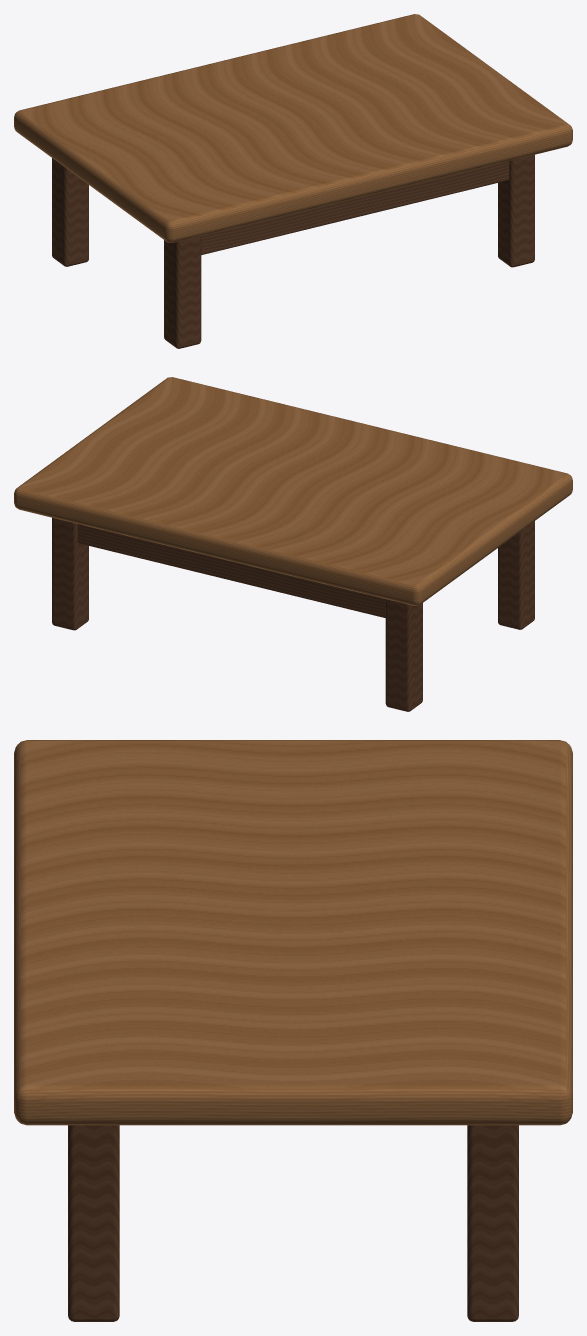
Rendered from low_table.glb.
3 renders of one model, top to bottom at view 1: azimuth 30°, elevation 25°; view 2: azimuth 150°, elevation 25°; view 3: azimuth 270°, elevation 25°, orthographic. The views are drawn at different scales.
Visible parts, largest first — view 1: low_table; view 2: low_table; view 3: low_table.
Boxes of the visible parts, x1,y1,x2,y2 form: low_table: [14, 14, 572, 348]; low_table: [14, 377, 572, 711]; low_table: [14, 740, 572, 1321].
Bounding box in the file's own units: 1.05 × 0.3525 × 0.7.
2 materials, 2 textured.
